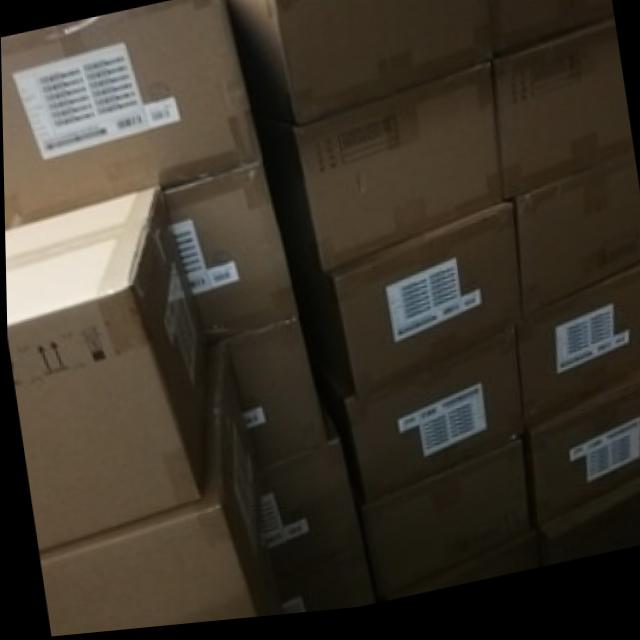box: (4, 187, 207, 552), (36, 346, 260, 637), (1, 0, 257, 227), (253, 71, 500, 277), (302, 211, 520, 404), (226, 0, 495, 131), (322, 338, 519, 509), (489, 27, 632, 211), (358, 450, 527, 605), (161, 164, 297, 350), (511, 161, 640, 328), (514, 276, 640, 443), (517, 381, 640, 536), (255, 412, 357, 584), (224, 321, 326, 474), (374, 539, 537, 610), (534, 486, 640, 577), (487, 0, 613, 64), (275, 552, 372, 620)
